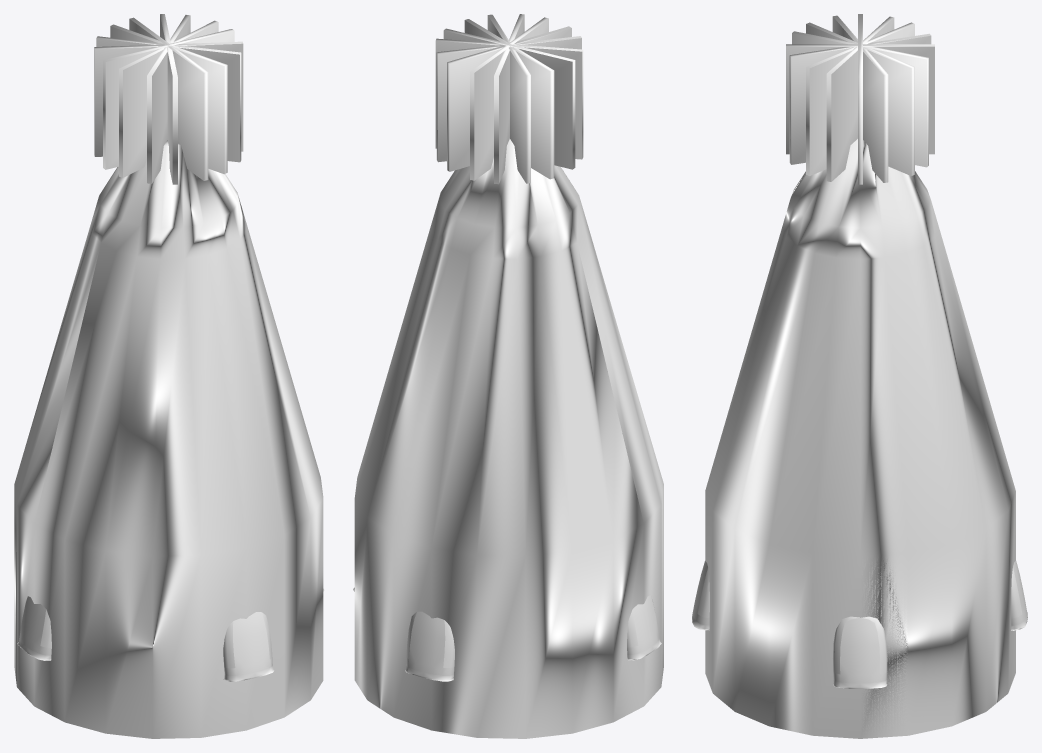
The model's file is JupiterC_Etapa_2.obj.
3 views of the same model, side by side, from view 1: azimuth 30°, elevation 25°; view 2: azimuth 150°, elevation 25°; view 3: azimuth 270°, elevation 25° (orthographic).
Visible parts, largest first — view 1: pCylinder1_1, pCube5_jup_1, jupiterc14_1, pCube5_ju1_1, jupiterc_3_1, jupiterc11_1, jupiterc12_1, jupiterc13_1, jupiterc16_1, jupiterc_4_1, jupiterc15_1; view 2: pCylinder1_1, jupiterc16_1, jupiterc15_1, pCube5_jup_1, jupiterc11_1, jupiterc_g_1, jupiterc13_1, jupiterc12_1, jupiterc14_1, pCube5_ju1_1, jupiterc_4_1; view 3: pCylinder1_1, jupiterc16_1, jupiterc_1_1, jupiterc12_1, jupiterc14_1, jupiterc13_1, pCube5_ju1_1, jupiterc15_1, pCube5_jup_1, jupiterc_3_1, jupiterc11_1, jupiterc_g_1.
Part boxes in pixels (x1,y1,x2,y2): pCylinder1_1: [14, 140, 323, 738]; pCube5_jup_1: [129, 17, 208, 180]; jupiterc14_1: [119, 20, 218, 177]; pCube5_ju1_1: [110, 24, 227, 174]; jupiterc_3_1: [223, 612, 274, 681]; jupiterc11_1: [103, 29, 234, 169]; jupiterc12_1: [147, 15, 190, 183]; jupiterc13_1: [96, 36, 241, 162]; jupiterc16_1: [94, 41, 243, 156]; jupiterc_4_1: [17, 596, 51, 660]; jupiterc15_1: [160, 14, 177, 184]; pCylinder1_1: [354, 139, 663, 738]; jupiterc16_1: [464, 19, 554, 179]; jupiterc15_1: [447, 26, 571, 171]; pCube5_jup_1: [470, 17, 548, 180]; jupiterc11_1: [443, 28, 575, 169]; jupiterc_g_1: [405, 611, 454, 681]; jupiterc13_1: [487, 14, 530, 183]; jupiterc12_1: [436, 36, 581, 162]; jupiterc14_1: [435, 38, 583, 159]; pCube5_ju1_1: [494, 14, 524, 184]; jupiterc_4_1: [627, 595, 661, 660]; pCylinder1_1: [705, 139, 1015, 738]; jupiterc16_1: [826, 16, 894, 181]; jupiterc_1_1: [832, 616, 887, 688]; jupiterc12_1: [806, 22, 914, 175]; jupiterc14_1: [832, 15, 888, 182]; jupiterc13_1: [806, 22, 914, 175]; pCube5_ju1_1: [789, 33, 931, 164]; jupiterc15_1: [792, 31, 928, 167]; pCube5_jup_1: [786, 44, 934, 154]; jupiterc_3_1: [692, 561, 709, 630]; jupiterc11_1: [858, 14, 862, 184]; jupiterc_g_1: [1011, 561, 1027, 630].
Size of the model in its own units: 6.53 by 13.46 by 6.53.
